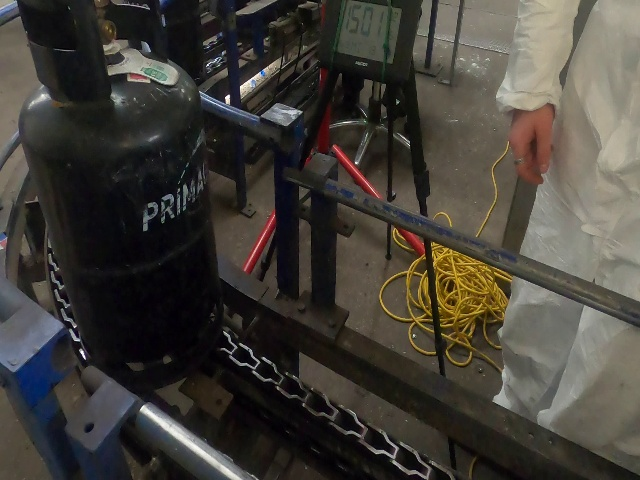gas_bottle: (0, 0, 629, 479)
